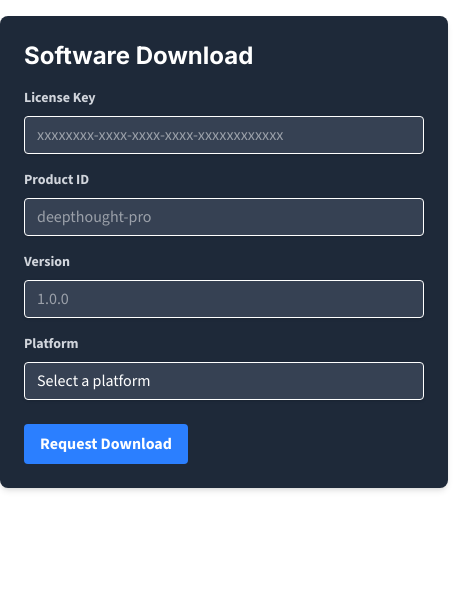
DownloadRequestForm › displays an informational message when the download response status is not "success"
Type "some-key" into the field labelled "License Key".
click(224, 135); type("some-key")  # box [24,116,424,154]
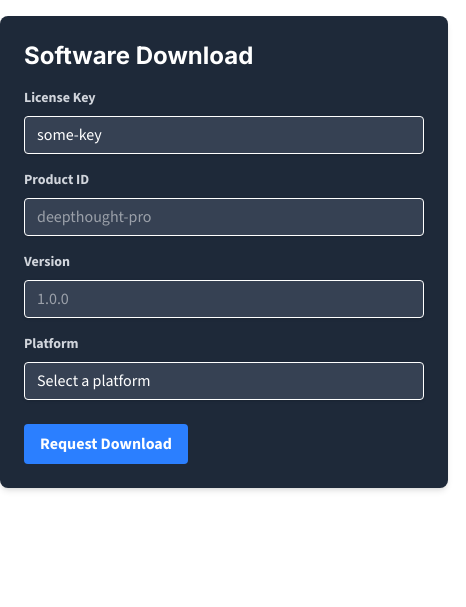
Type "some-product" into the field labelled "Product ID".
click(224, 217); type("some-product")  # box [24,198,424,236]
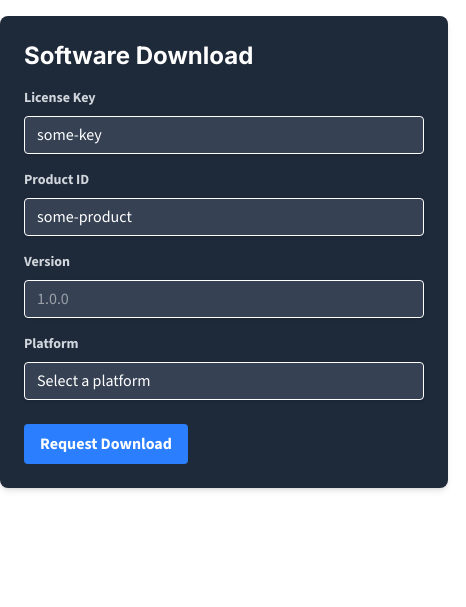
Type "1.0" into the field labelled "Version".
click(224, 299); type("1.0")  # box [24,280,424,318]
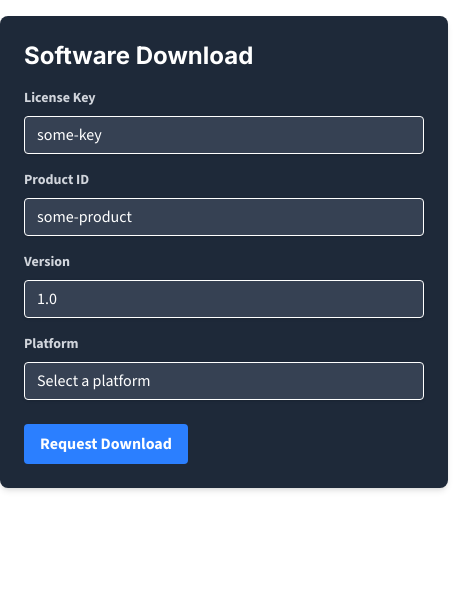
Select "Windows" in the dropdown labelled "Platform" at (224, 381), box [24,362,424,400]
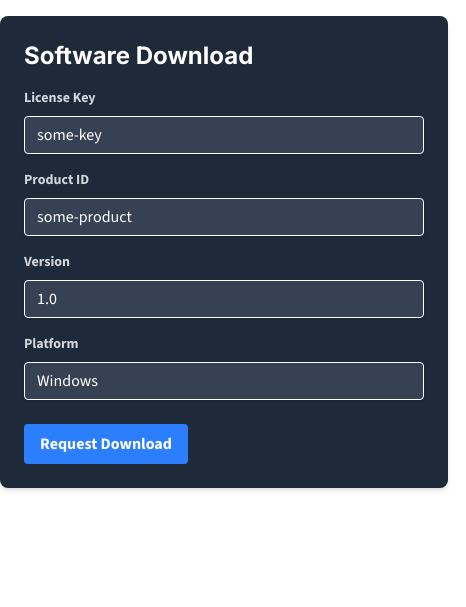
Click the button "Request Download".
click(106, 444)  # box [24,424,188,464]
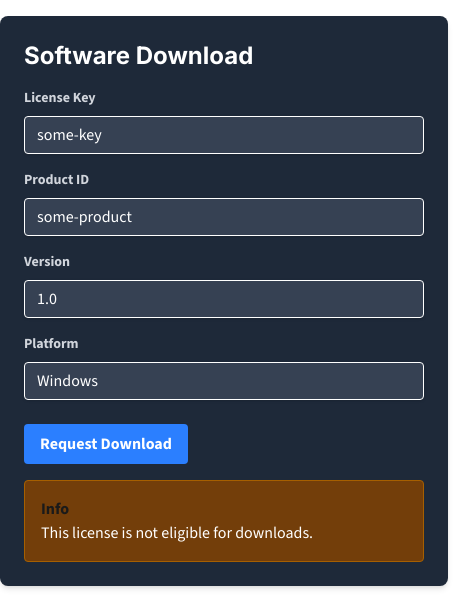
Now the text "This license is not eligible for downloads." is shown, box [41,522,313,543]
